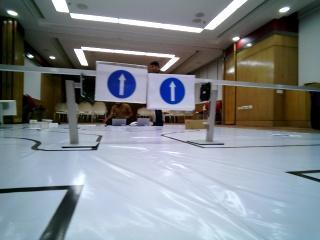straight: (99, 62, 146, 106), (148, 74, 194, 110)
